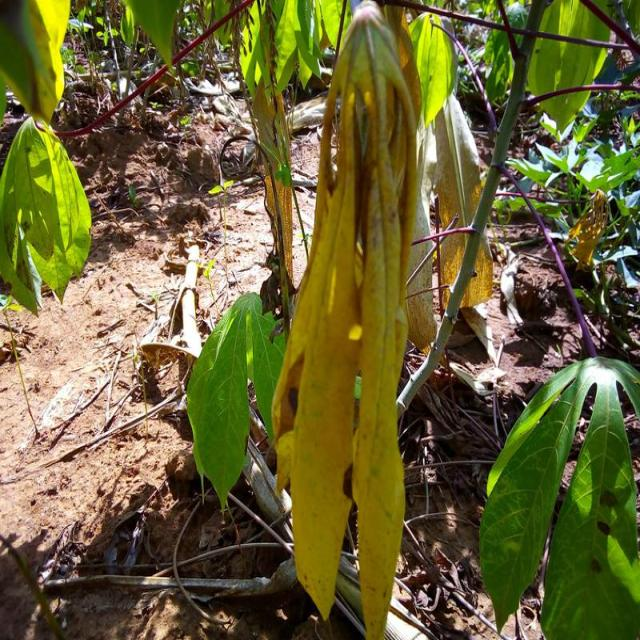cassava leaf: (270, 1, 424, 637), (479, 354, 640, 638), (186, 290, 290, 517), (2, 114, 92, 315), (524, 0, 612, 137), (1, 0, 72, 126), (409, 11, 459, 128)
